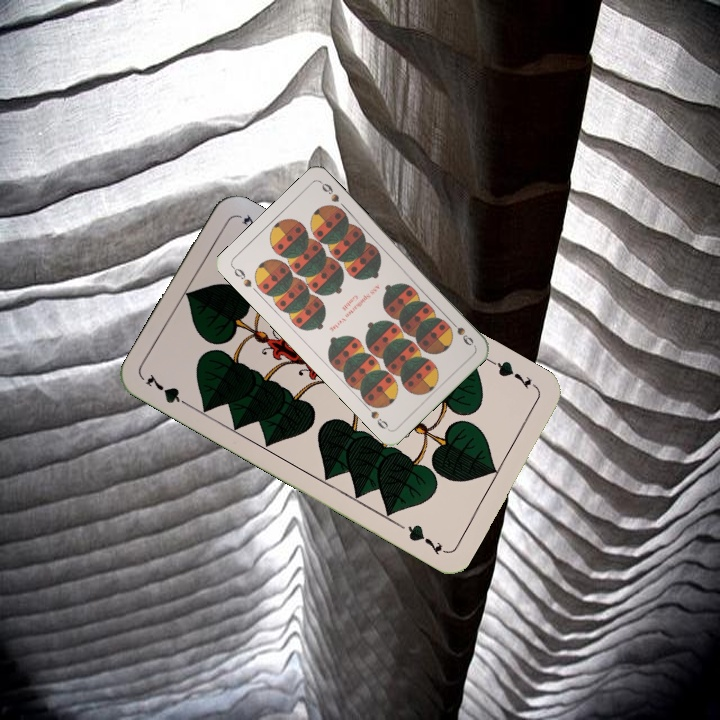G7: (141, 369, 195, 411), (486, 356, 540, 392)
S9: (445, 316, 476, 348), (228, 263, 254, 290)
